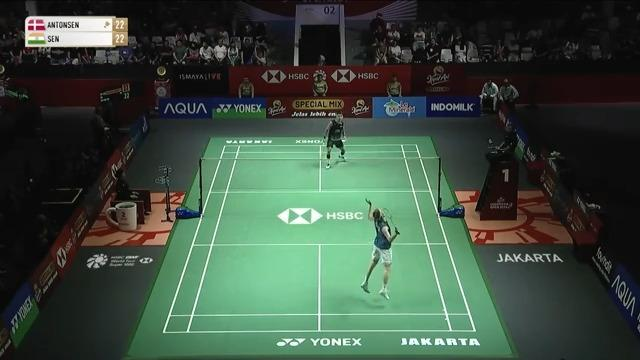Shuttlecock: (403, 106, 413, 120)
